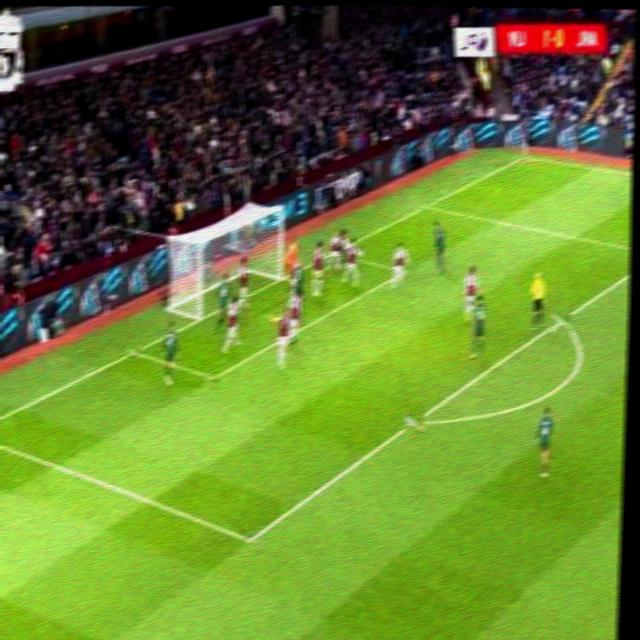bigarea_bottom_inner: (236, 523, 263, 558)
bigarea_top_outter: (421, 199, 430, 213)
bottom_arc_area_intersection: (403, 411, 424, 436)
corner: (518, 154, 531, 163)
smallarea_bottom_inner: (203, 365, 221, 391)
smallarea_bottom_outter: (127, 343, 141, 360)
smallarea_top_inner: (400, 267, 408, 278)
top_arc_area_intersection: (550, 311, 571, 334)
